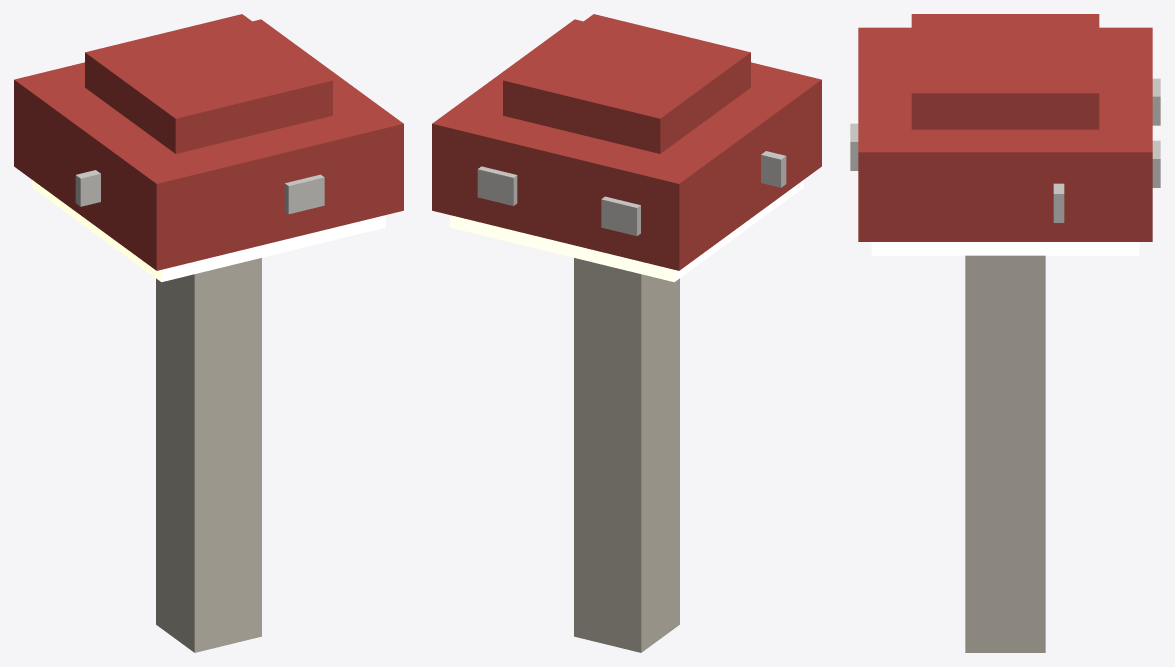
The model's file is ncb-garden-lamp-mushroom.glb.
3 renders of one model, left to right at view 1: azimuth 30°, elevation 25°; view 2: azimuth 150°, elevation 25°; view 3: azimuth 270°, elevation 25°, orthographic. The views are drawn at different scales.
Parts seen in each view (by area): view 1: box-prop; view 2: box-prop; view 3: box-prop.
Part boxes in pixels (bbox=[...]): box-prop: bbox=[14, 14, 403, 652]; box-prop: bbox=[432, 14, 821, 652]; box-prop: bbox=[850, 14, 1160, 652].
Bounding box in the file's own units: 1.28 × 2.4 × 1.16.
